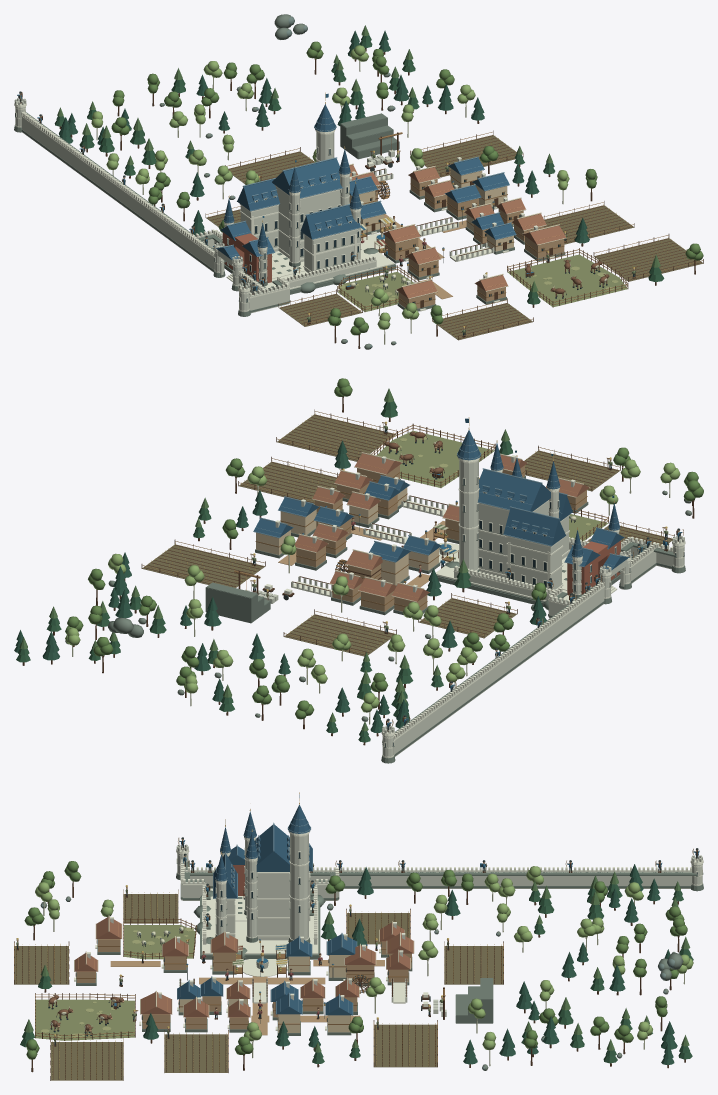
The model's file is royal-castle-v6.glb.
3 renders of one model, top to bottom at view 1: azimuth 30°, elevation 25°; view 2: azimuth 150°, elevation 25°; view 3: azimuth 270°, elevation 25°, orthographic. The views are drawn at different scales.
Parts seen in each view (by area): view 1: royal-castle-v6 Alpine white limestone, royal-castle-v6 Packed camp earth, royal-castle-v6 Blue slate roof, royal-castle-v6 Carved ivory limestone, royal-castle-v6 Dark timber beams, royal-castle-v6 Weathered foundation, royal-castle-v6 Broad oak foliage, royal-castle-v6 Soft meadow birch leaves, royal-castle-v6 Soft grazing meadow, royal-castle-v6 Warm village plaster, royal-castle-v6 Terracotta village tiles, royal-castle-v6 Deep fir needles (+9 smaller); view 2: royal-castle-v6 Packed camp earth, royal-castle-v6 Alpine white limestone, royal-castle-v6 Blue slate roof, royal-castle-v6 Dark timber beams, royal-castle-v6 Carved ivory limestone, royal-castle-v6 Weathered foundation, royal-castle-v6 Soft meadow birch leaves, royal-castle-v6 Broad oak foliage, royal-castle-v6 Deep fir needles, royal-castle-v6 Terracotta village tiles, royal-castle-v6 Warm village plaster, royal-castle-v6 Soft grazing meadow (+9 smaller); view 3: royal-castle-v6 Packed camp earth, royal-castle-v6 Alpine white limestone, royal-castle-v6 Carved ivory limestone, royal-castle-v6 Weathered foundation, royal-castle-v6 Blue slate roof, royal-castle-v6 Terracotta village tiles, royal-castle-v6 Dark timber beams, royal-castle-v6 Warm village plaster, royal-castle-v6 Soft grazing meadow, royal-castle-v6 Soft meadow birch leaves, royal-castle-v6 Broad oak foliage, royal-castle-v6 Deep fir needles (+10 smaller).
Part boxes in pixels (<box>): royal-castle-v6 Alpine white limestone: <box>14,98,537,313</box>; royal-castle-v6 Packed camp earth: <box>206,135,703,339</box>; royal-castle-v6 Blue slate roof: <box>216,104,515,263</box>; royal-castle-v6 Carved ivory limestone: <box>14,100,554,311</box>; royal-castle-v6 Dark timber beams: <box>20,48,703,348</box>; royal-castle-v6 Weathered foundation: <box>14,14,565,349</box>; royal-castle-v6 Broad oak foliage: <box>111,41,703,335</box>; royal-castle-v6 Soft meadow birch leaves: <box>91,45,569,329</box>; royal-castle-v6 Soft grazing meadow: <box>338,254,627,311</box>; royal-castle-v6 Warm village plaster: <box>375,177,609,308</box>; royal-castle-v6 Terracotta village tiles: <box>349,165,566,298</box>; royal-castle-v6 Deep fir needles: <box>59,30,589,243</box>; royal-castle-v6 Packed camp earth: <box>142,414,672,656</box>; royal-castle-v6 Alpine white limestone: <box>245,457,684,758</box>; royal-castle-v6 Blue slate roof: <box>254,430,628,580</box>; royal-castle-v6 Dark timber beams: <box>22,396,694,745</box>; royal-castle-v6 Carved ivory limestone: <box>264,455,685,757</box>; royal-castle-v6 Weathered foundation: <box>65,476,691,763</box>; royal-castle-v6 Soft meadow birch leaves: <box>65,459,680,712</box>; royal-castle-v6 Broad oak foliage: <box>65,378,703,719</box>; royal-castle-v6 Deep fir needles: <box>14,440,546,732</box>; royal-castle-v6 Terracotta village tiles: <box>294,453,589,601</box>; royal-castle-v6 Warm village plaster: <box>278,434,586,611</box>; royal-castle-v6 Soft grazing meadow: <box>376,431,608,542</box>; royal-castle-v6 Packed camp earth: <box>14,894,503,1080</box>; royal-castle-v6 Alpine white limestone: <box>87,834,702,1016</box>; royal-castle-v6 Carved ivory limestone: <box>74,831,703,1030</box>; royal-castle-v6 Weathered foundation: <box>41,853,703,1070</box>; royal-castle-v6 Blue slate roof: <box>177,805,367,1015</box>; royal-castle-v6 Terracotta village tiles: <box>75,917,413,1017</box>; royal-castle-v6 Dark timber beams: <box>14,840,698,1080</box>; royal-castle-v6 Warm village plaster: <box>57,939,411,1035</box>; royal-castle-v6 Soft grazing meadow: <box>35,925,195,1040</box>; royal-castle-v6 Soft meadow birch leaves: <box>35,866,693,1049</box>; royal-castle-v6 Broad oak foliage: <box>24,861,687,1059</box>; royal-castle-v6 Deep fir needles: <box>143,864,677,1065</box>.
Size of the model in its own units: 53.58 by 19.17 by 75.78.
